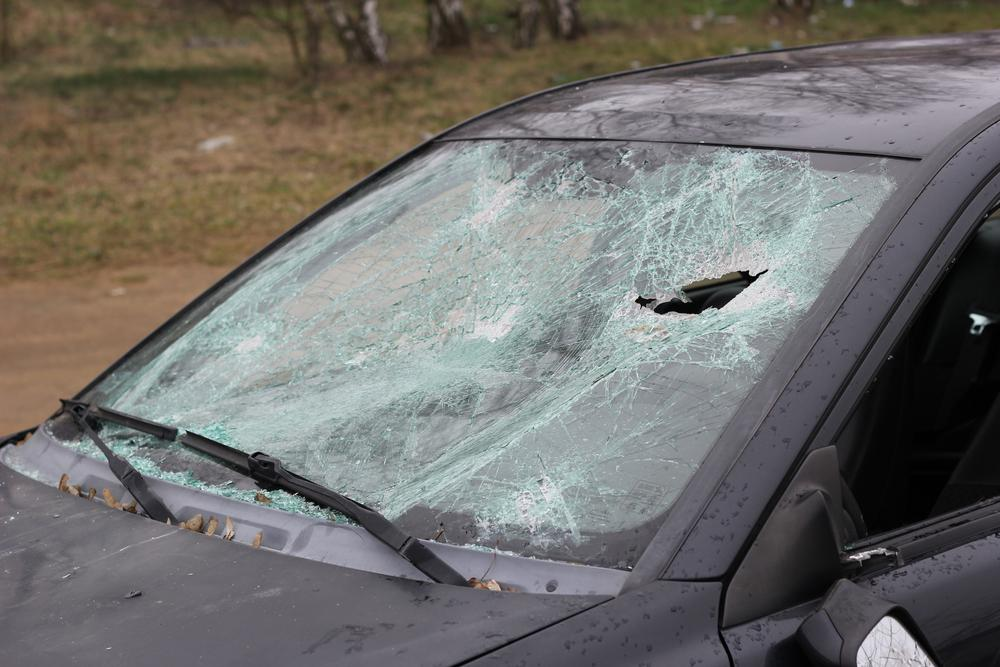glass shatter: (47, 138, 921, 572)
